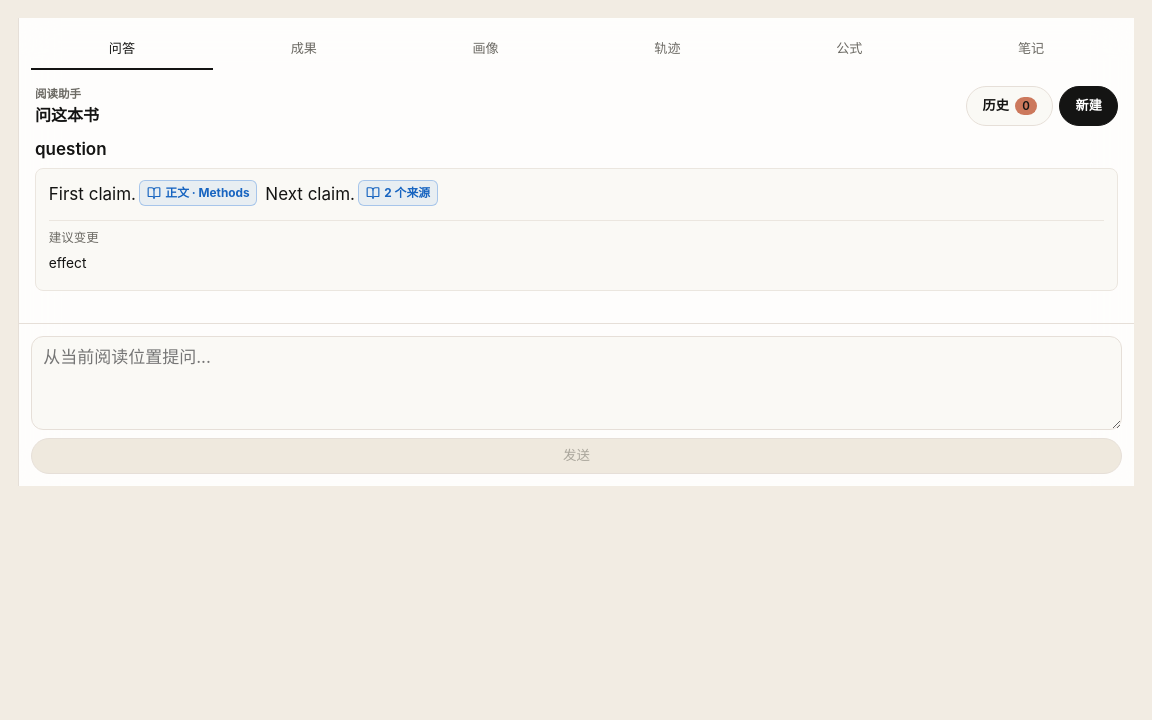
Test: RightRail agent sources › shows stale snapshots and disables reader navigation
The width and height of the screenshot is (1152, 720).
Click the button with class "agent-source-button" showing "正文 · Methods" at (198,193), box 139,180 -> 257,206
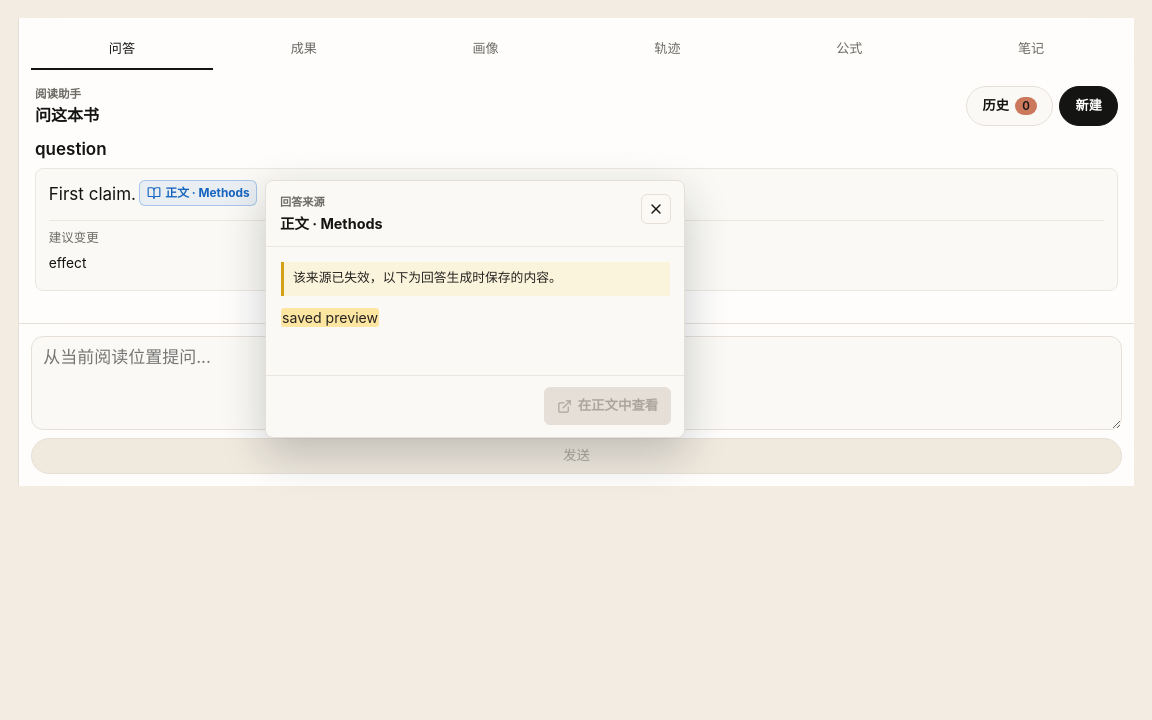
Now the text with class "source-stale" shows "已失效", box 281,262 -> 670,296
Now the button with class "source-open-reader" is disabled, box 544,387 -> 671,425
